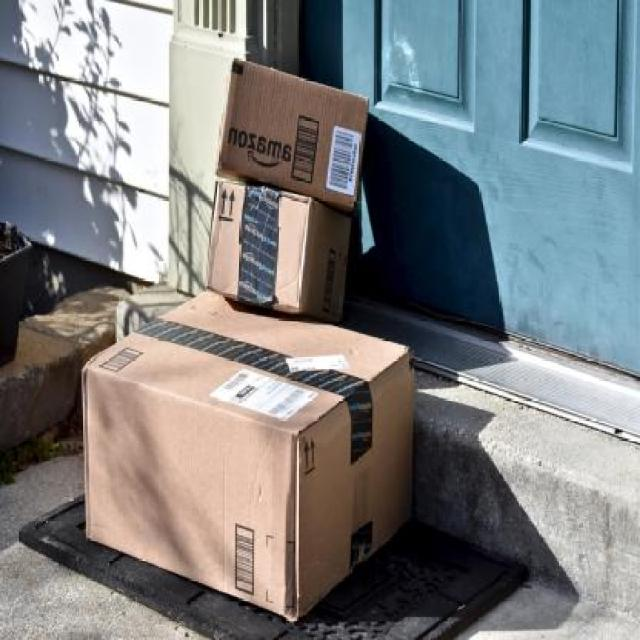cardboxes: (77, 283, 425, 628), (206, 54, 372, 211), (207, 179, 351, 324)
